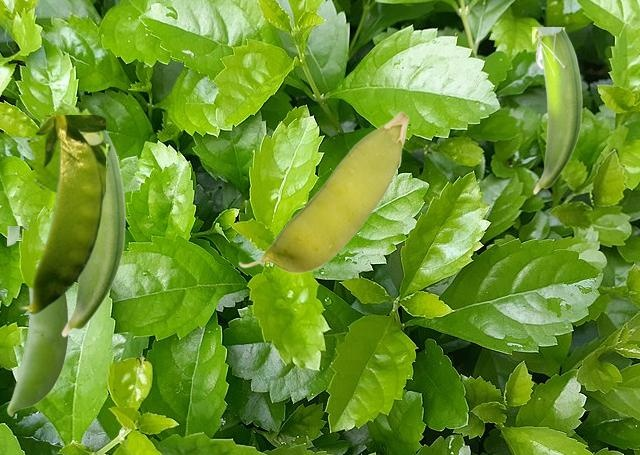pea: (238, 111, 408, 272), (19, 115, 104, 313), (61, 129, 126, 336), (7, 226, 67, 415), (532, 27, 583, 193)
